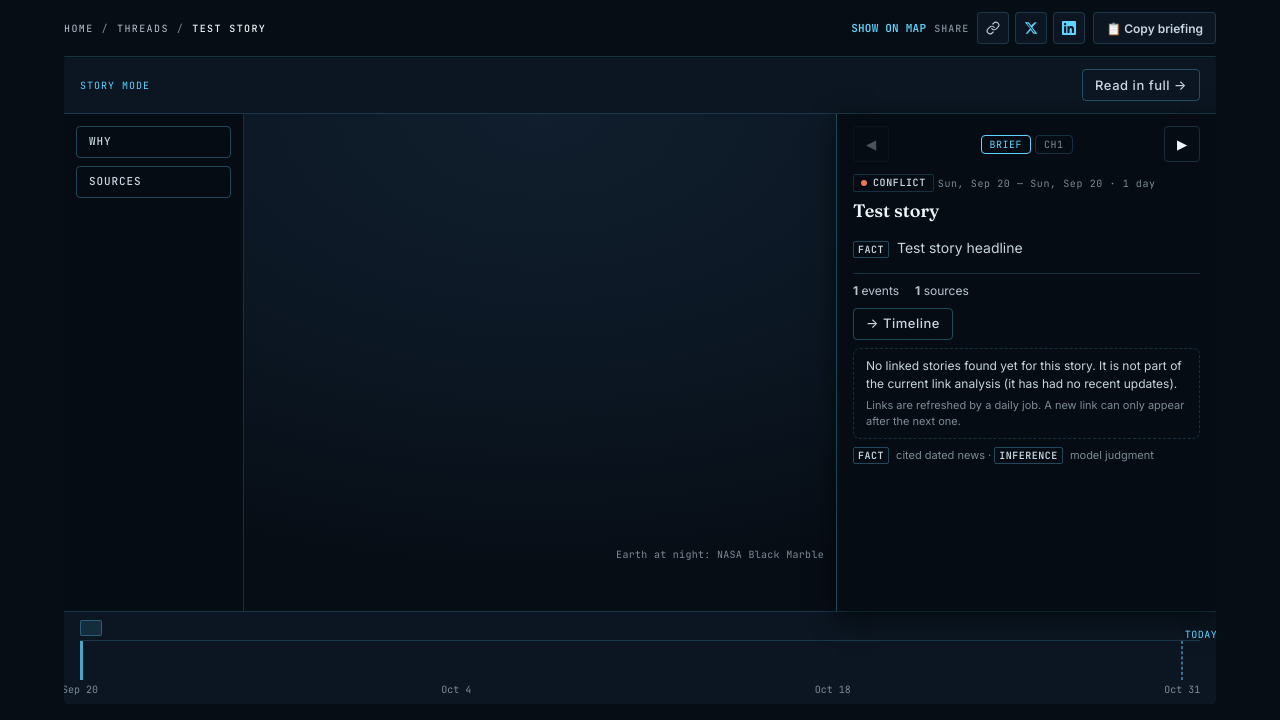
it: ThreadPage — root cause › still renders a plain-string root cause
Click the button "Read in full →".
click(1141, 85)  # box [1082, 69, 1200, 101]
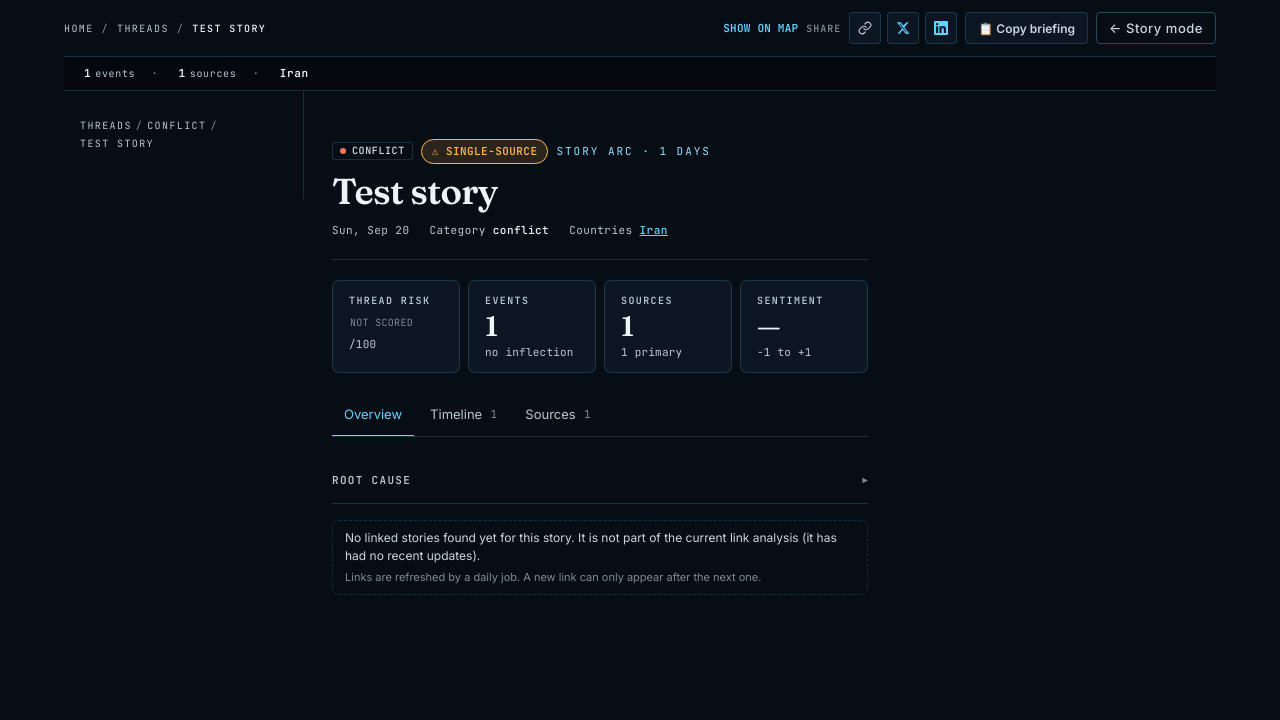
Click the button "Root cause ▾".
click(372, 480)  # box [332, 457, 868, 503]
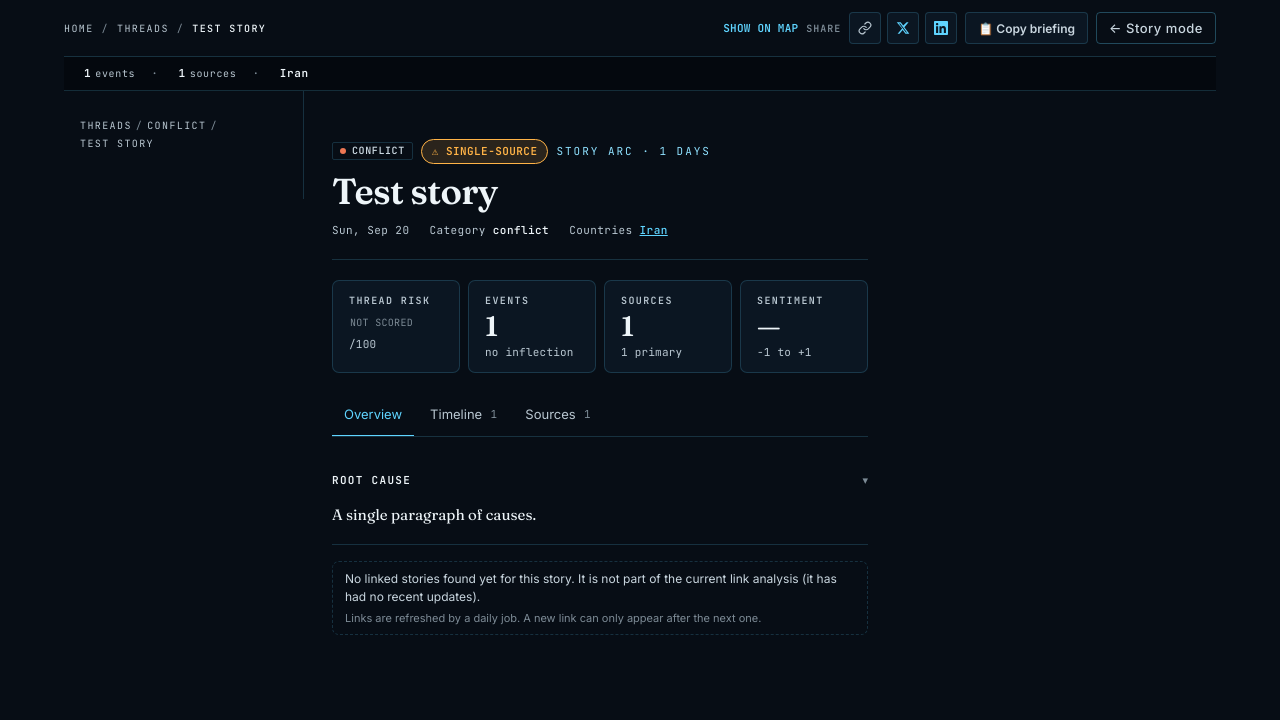
Result: the text "A single paragraph of causes." is shown at [332, 505, 536, 524]
